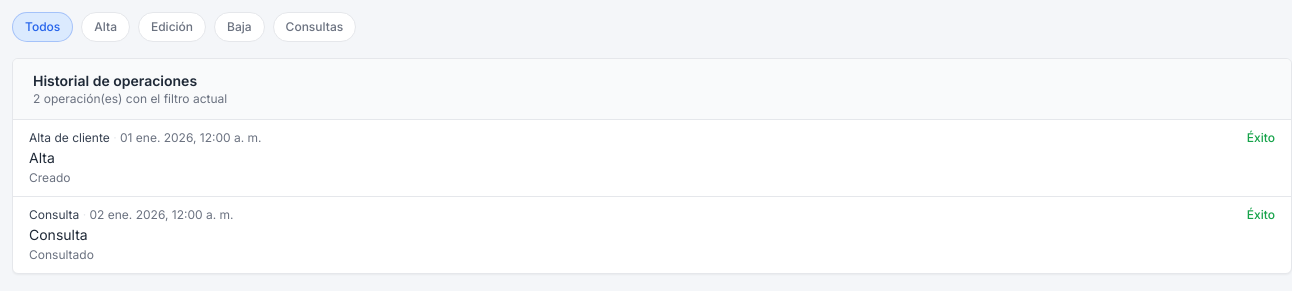
Test: HistorialPage › renderiza operaciones y permite filtrar por tipo
Expected: the heading "Historial de operaciones" is shown, 33,72 -> 197,89
Expected: the text "2 operación(es) con el filtro actual" is shown, 33,91 -> 227,107
Click the button "Alta". click: (106, 27)
box: 81,12 -> 130,42
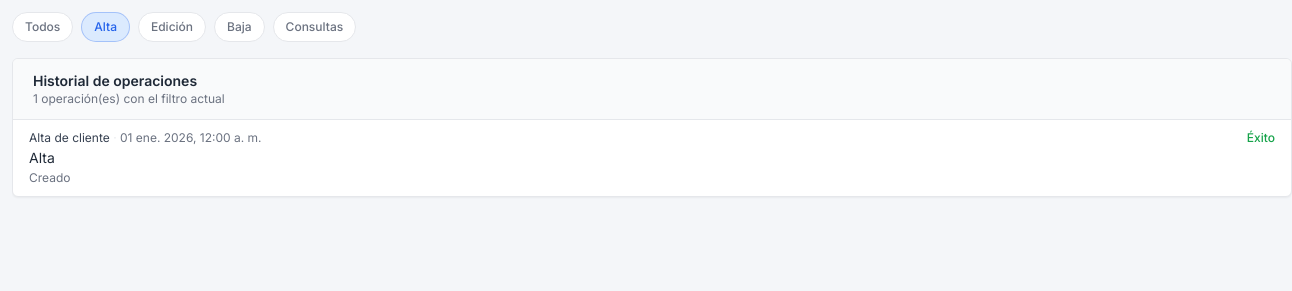
Expected: the text "1 operación(es) con el filtro actual" is shown, 33,91 -> 225,107
